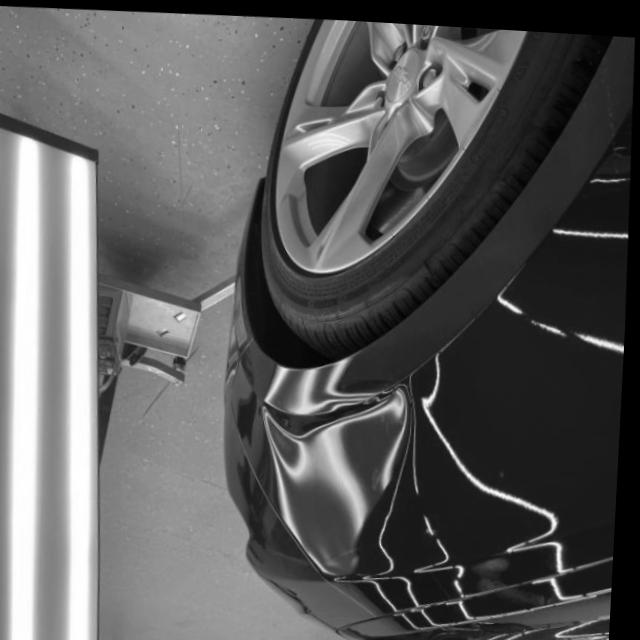PDR-Dent: (252, 373, 408, 500)
